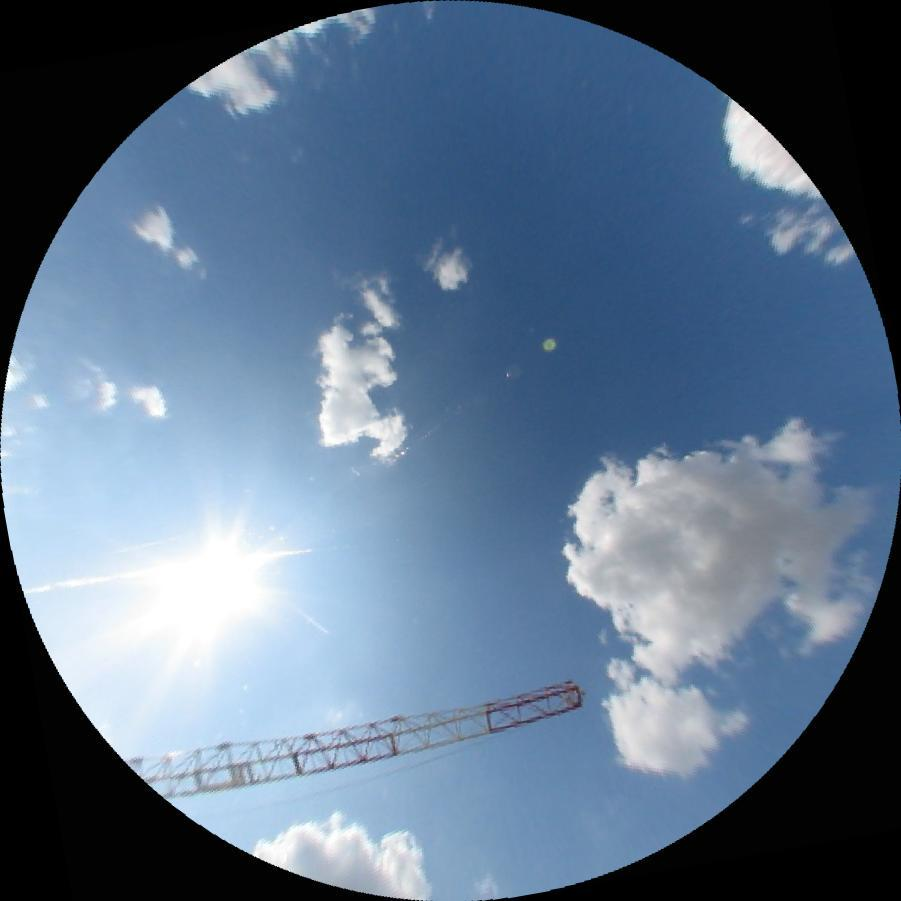contrail young: (280, 596, 331, 637)
parasite: (22, 543, 313, 594)
sun: (163, 526, 270, 637)
unknow: (111, 532, 191, 554)
